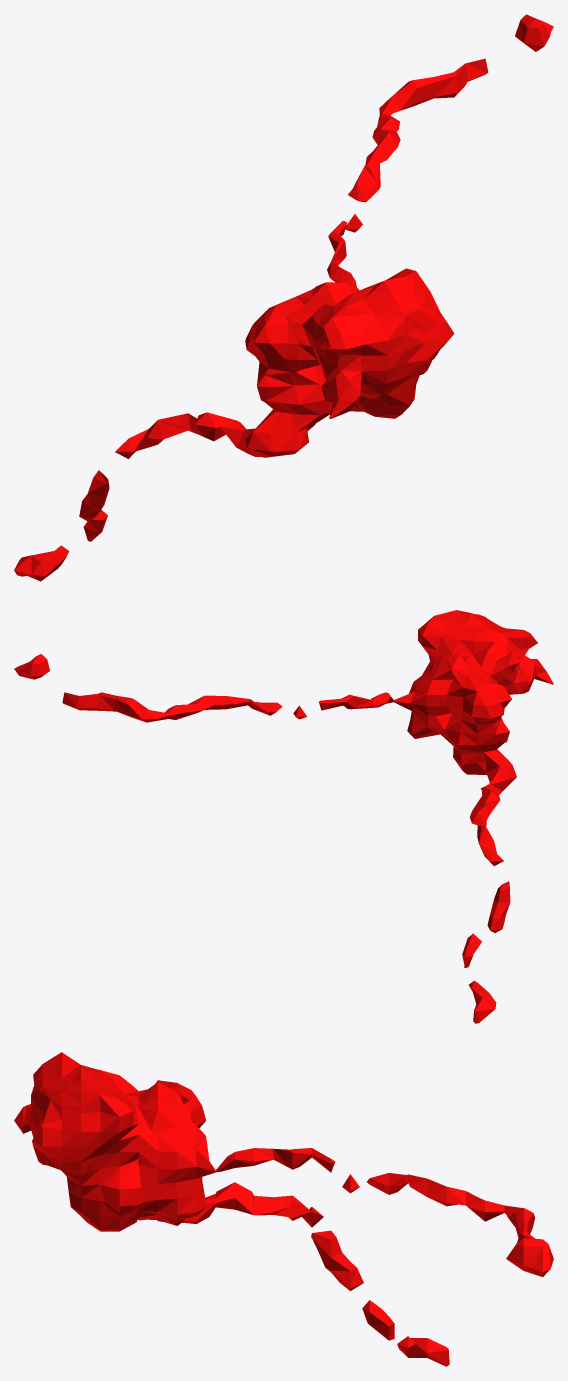
Rendered from rnr_coarse.dae.
3 views of the same model, one above another, from view 1: azimuth 30°, elevation 25°; view 2: azimuth 150°, elevation 25°; view 3: azimuth 270°, elevation 25° (orthographic). The views are drawn at different scales.
Parts seen in each view (by area): view 1: rnr; view 2: rnr; view 3: rnr.
Part boxes in pixels (x1,y1,x2,y2): rnr: (14, 14, 553, 581); rnr: (14, 610, 553, 1023); rnr: (14, 1052, 553, 1366).
Bounding box in the file's own units: 283 × 179 × 216.
